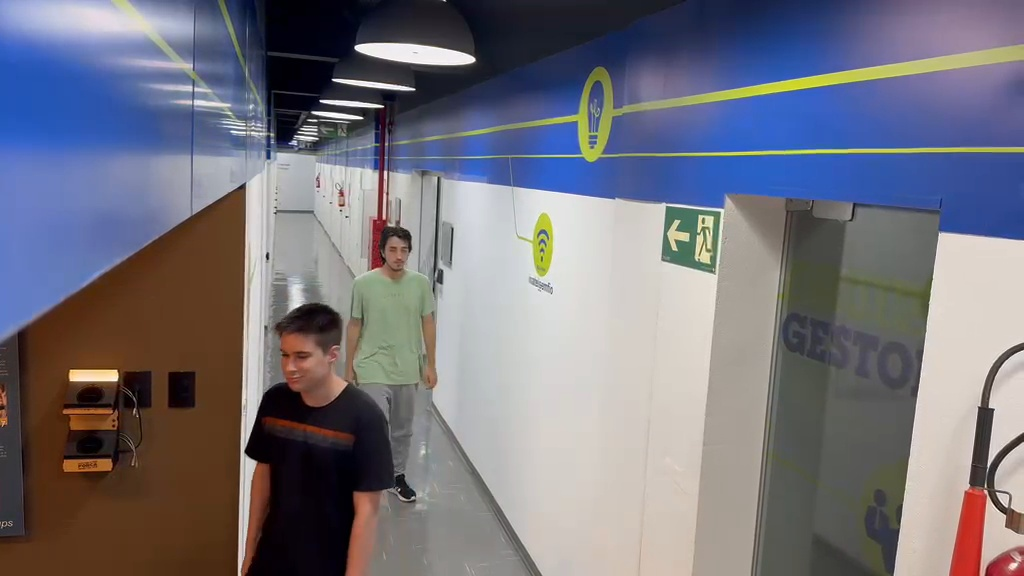person: (243, 303, 395, 573), (342, 223, 439, 504)
